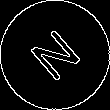N_SE: (23, 23, 87, 87)
